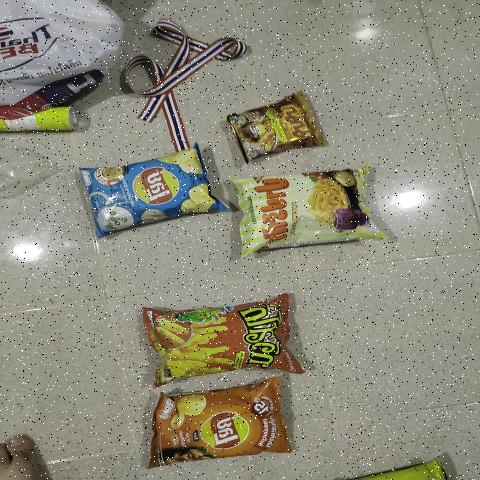lay_blue: (89, 155, 205, 228)
mama: (243, 96, 309, 154)
paprika: (246, 172, 362, 246)
twisco: (156, 303, 282, 373)
